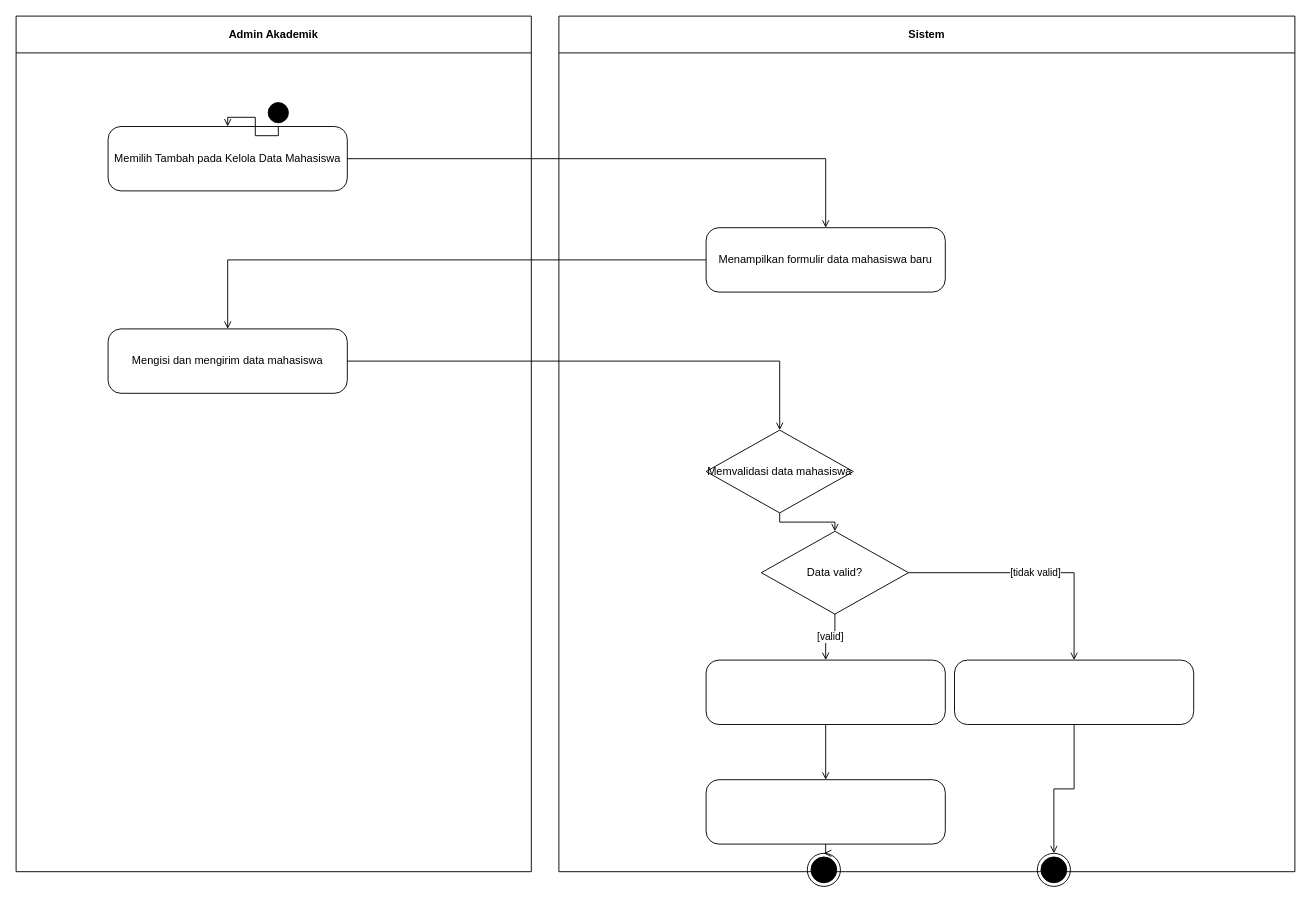
Image size: 1311x903. Some labels were removed from this diagram. The shapes that lost their labels are listed below. From the top down, each one's centre as x and y in pixels, then its label:
(825,691): Menyimpan data mahasiswa baru
(1074,691): Menolak penambahan dan menampilkan alasan
(825,811): Menampilkan konfirmasi data tersimpan
